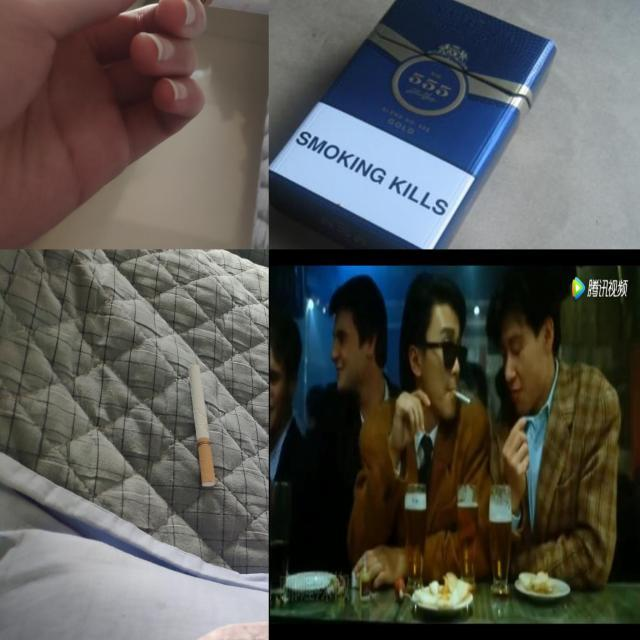smoking: (188, 364, 216, 487), (139, 0, 268, 22), (452, 388, 472, 405)
